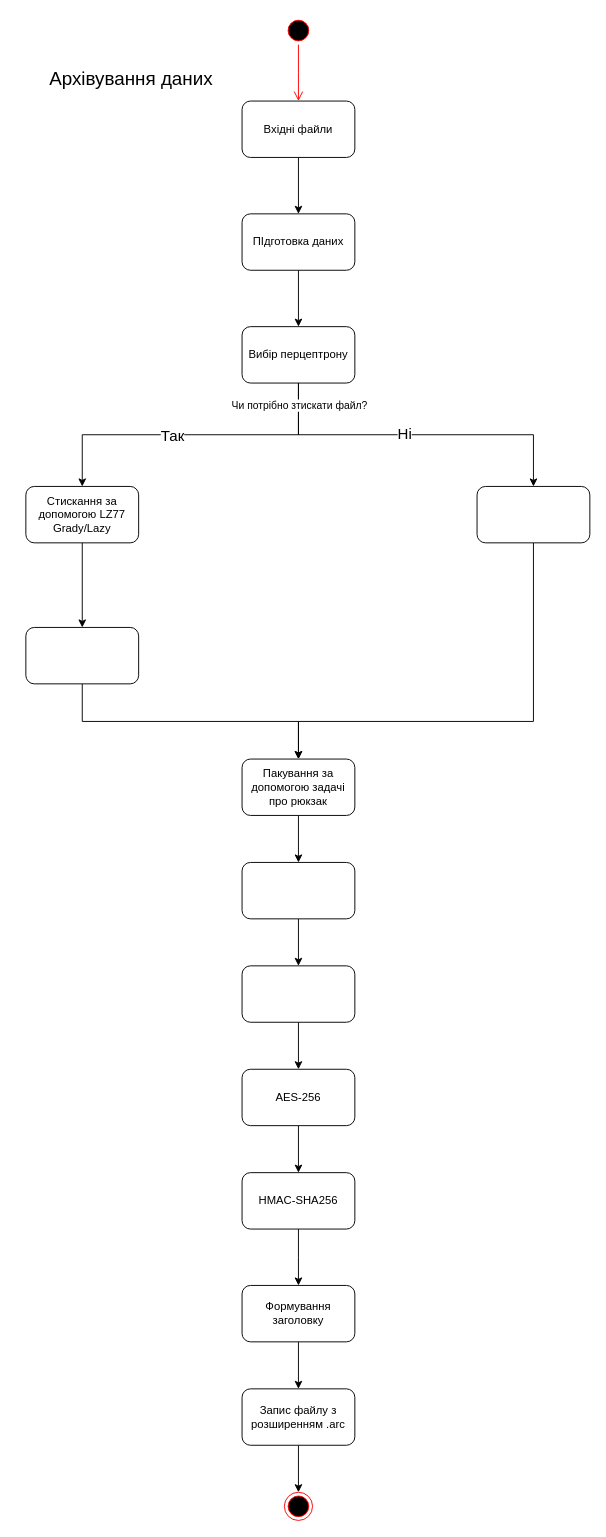
The diagram is 606 pixels wide and 1537 high, and some of its shapes have lost their labels. The shapes that lost their labels are listed below. From the top down, each one's centre as x and y in pixels, then its label:
(533,514): Файл йде далі
(82,655): Алгории Хафмана
(298,890): Пакування файлів В бінарну структуру
(298,993): Формування ключа
